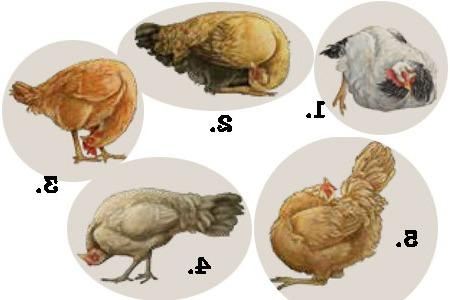AbNormal: (271, 151, 394, 296), (13, 63, 142, 165), (136, 21, 298, 100), (81, 190, 247, 256), (324, 30, 442, 112)
